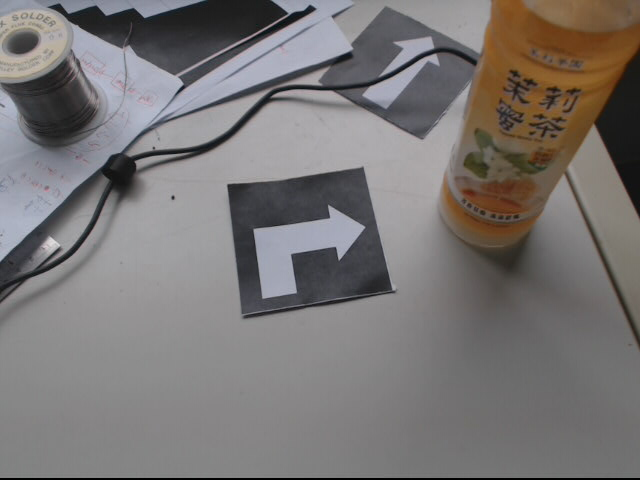right: (228, 167, 394, 323)
